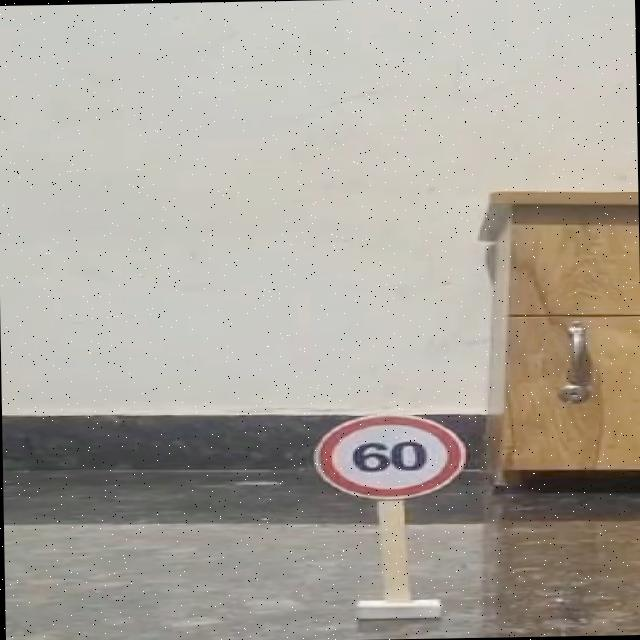Speed60: (295, 400, 486, 509)
